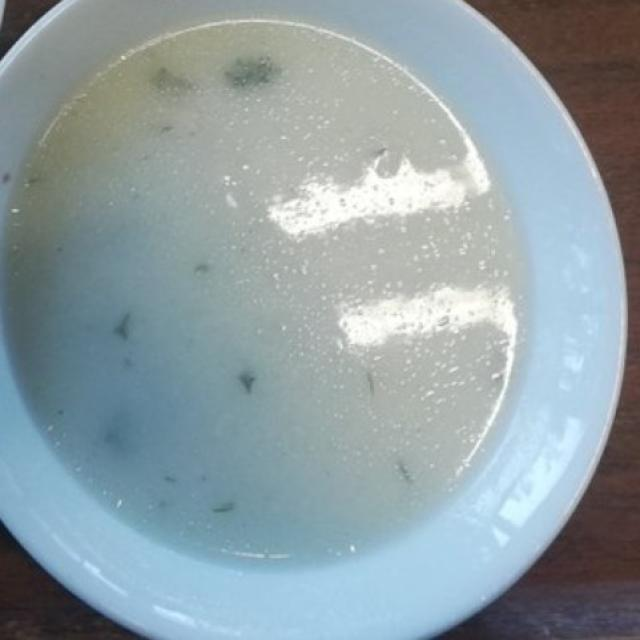corba: (0, 0, 629, 638)
